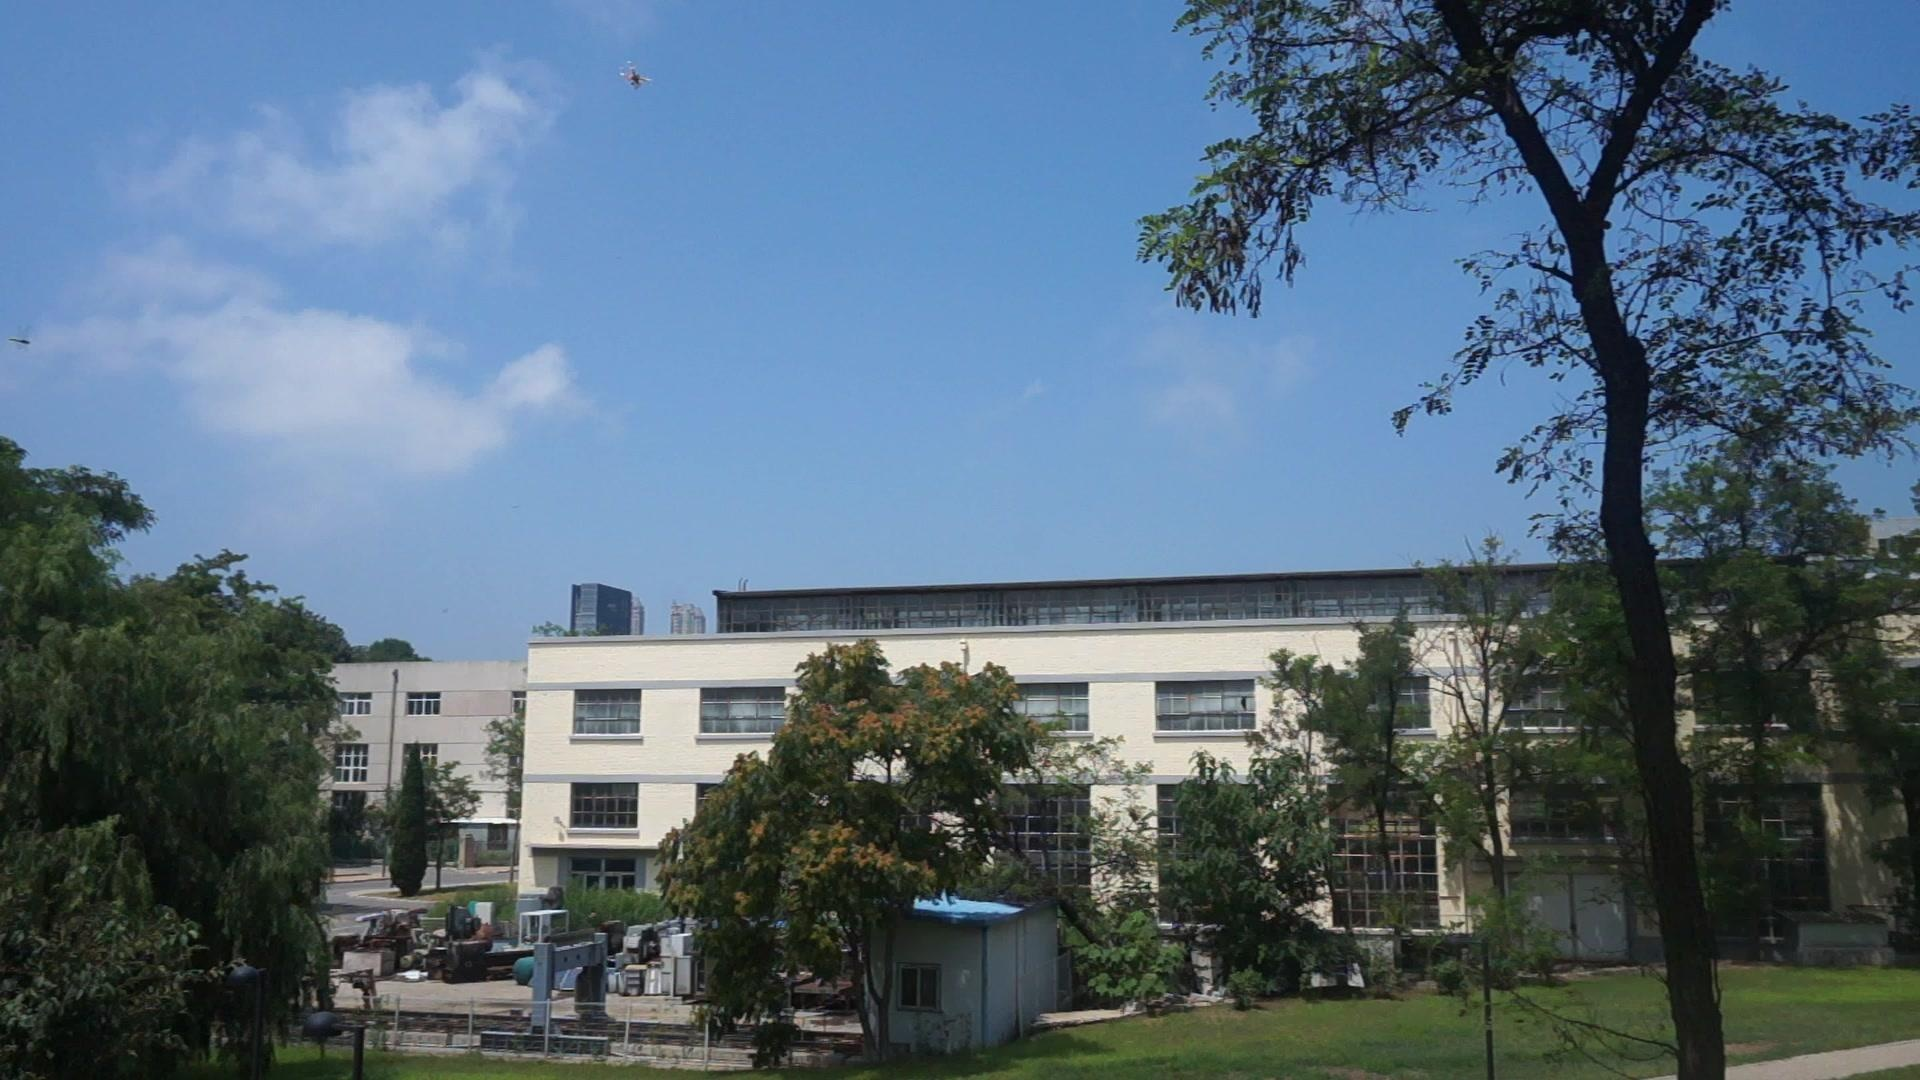UAV: (617, 55, 658, 91)
